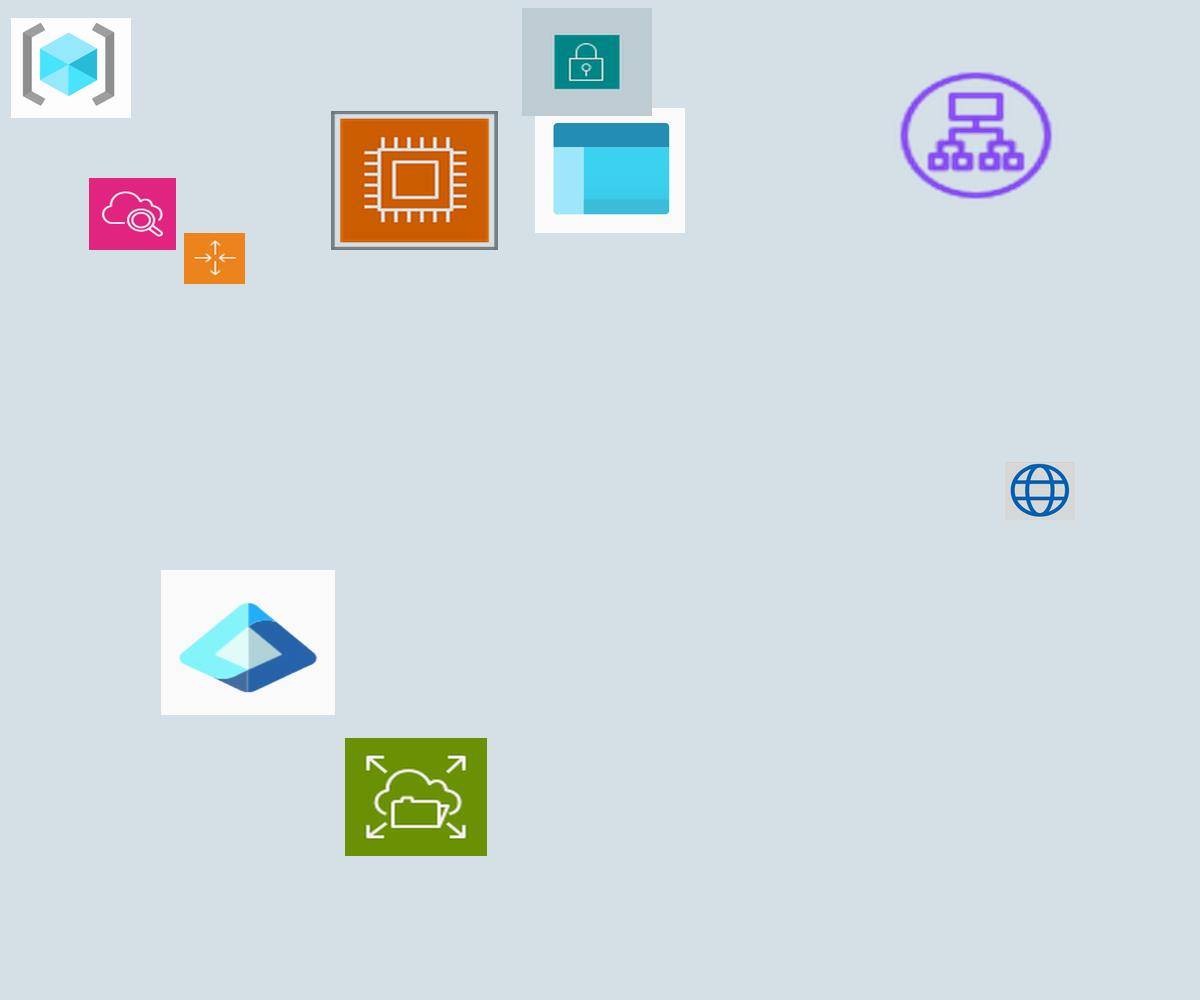AWS-Category_Compute: (331, 111, 498, 250)
AWS-CloudWatch: (89, 178, 176, 250)
AWS-EFS: (345, 738, 487, 856)
AWS-Private-subnet: (522, 8, 652, 116)
AWS-Res_Elastic-Load-Balancing_Application-Load-Balancer: (894, 67, 1058, 204)
AWS-Scaling-group: (184, 233, 245, 284)
Azure_http: (1005, 462, 1075, 520)
Azure_management-portal: (535, 108, 685, 233)
Azure_microsoft_entra: (161, 570, 335, 715)
Azure_resource_group: (11, 18, 131, 118)
